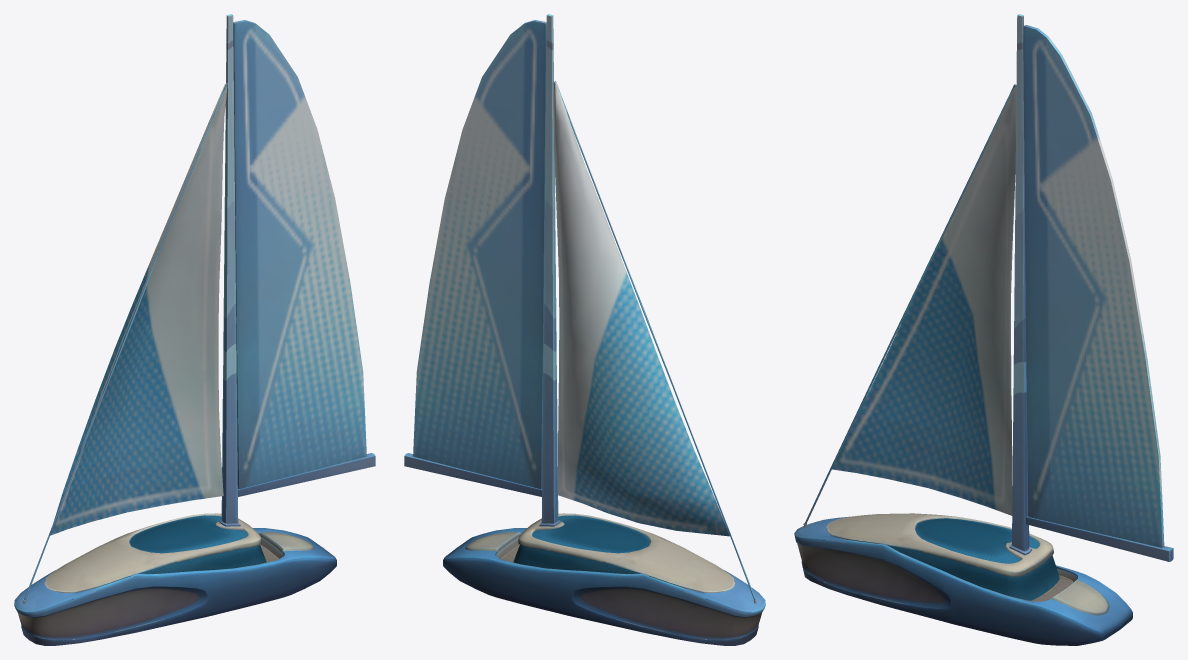
The model's file is pref_sm_beach_sailboat02_lv3.fbx.
3 views of the same model, side by side, from view 1: azimuth 30°, elevation 25°; view 2: azimuth 150°, elevation 25°; view 3: azimuth 330°, elevation 25° (orthographic). The views are drawn at different scales.
Parts seen in each view (by area): view 1: pref_sm_beach_sailboat02_lv3; view 2: pref_sm_beach_sailboat02_lv3; view 3: pref_sm_beach_sailboat02_lv3.
Part boxes in pixels (x1=…): pref_sm_beach_sailboat02_lv3: x1=14, y1=14, x2=375, y2=645; pref_sm_beach_sailboat02_lv3: x1=404, y1=14, x2=765, y2=645; pref_sm_beach_sailboat02_lv3: x1=794, y1=14, x2=1173, y2=645.
Bounding box in the file's own units: 9.2 × 14.18 × 1.97.
